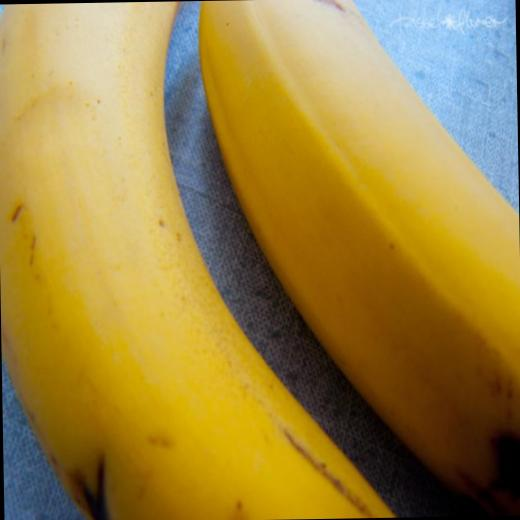Banana: (0, 0, 396, 520), (198, 0, 520, 520)
